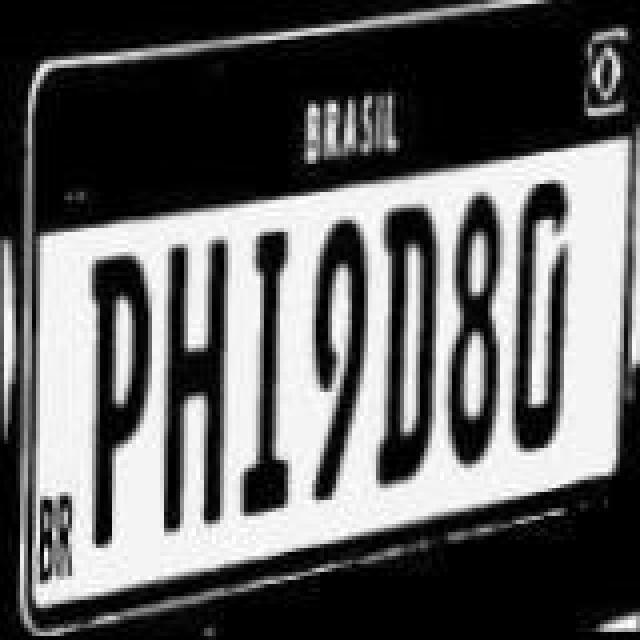8: (444, 194, 512, 462)
9: (304, 222, 380, 490)
D: (506, 180, 586, 456), (372, 212, 448, 488)
H: (146, 240, 238, 536)
I: (232, 236, 300, 508)
P: (74, 256, 150, 548)
